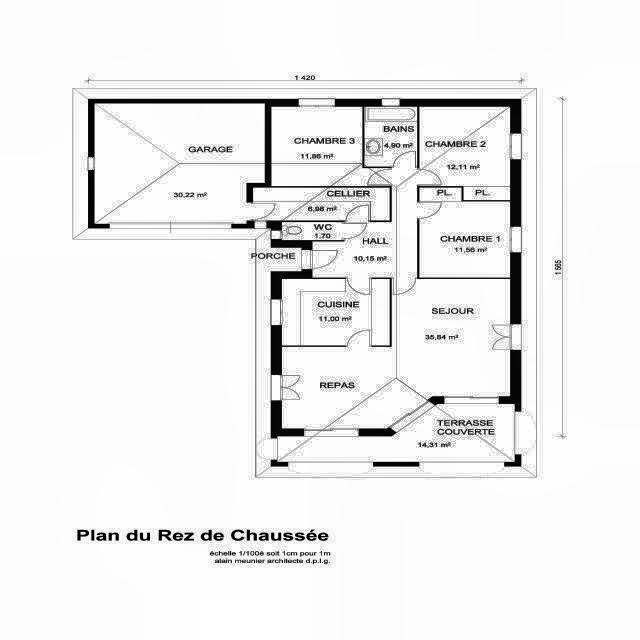room: (282, 279, 510, 429), (94, 103, 265, 224), (312, 168, 417, 278), (271, 107, 390, 186), (419, 107, 510, 200), (419, 188, 510, 278), (282, 279, 390, 345), (253, 188, 390, 221), (364, 107, 417, 167), (282, 222, 343, 240)
